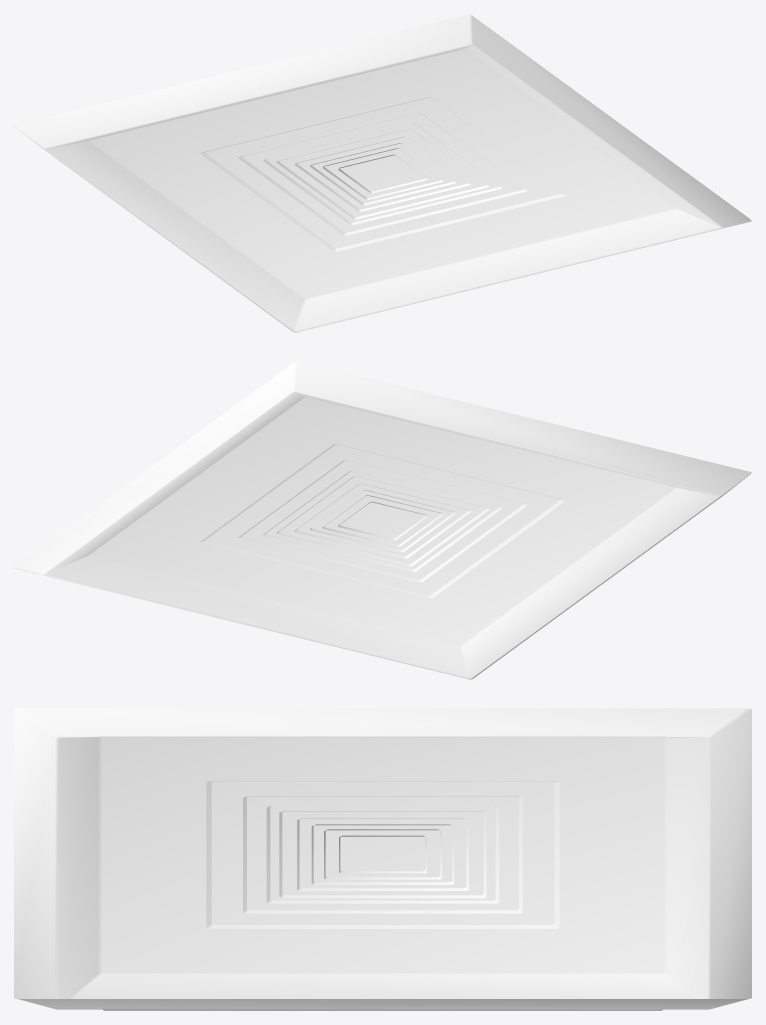
The model's file is Large Ceiling Vent.fbx.
3 views of the same model, one above another, from view 1: azimuth 30°, elevation 25°; view 2: azimuth 150°, elevation 25°; view 3: azimuth 270°, elevation 25° (orthographic). The views are drawn at different scales.
Parts seen in each view (by area): view 1: Large Ceiling Vent; view 2: Large Ceiling Vent; view 3: Large Ceiling Vent.
Part boxes in pixels (x1=…): Large Ceiling Vent: x1=14, y1=14, x2=751, y2=332; Large Ceiling Vent: x1=14, y1=361, x2=751, y2=679; Large Ceiling Vent: x1=14, y1=708, x2=751, y2=1010.
Bounding box in the file's own units: 87.11 × 6.07 × 93.42.
